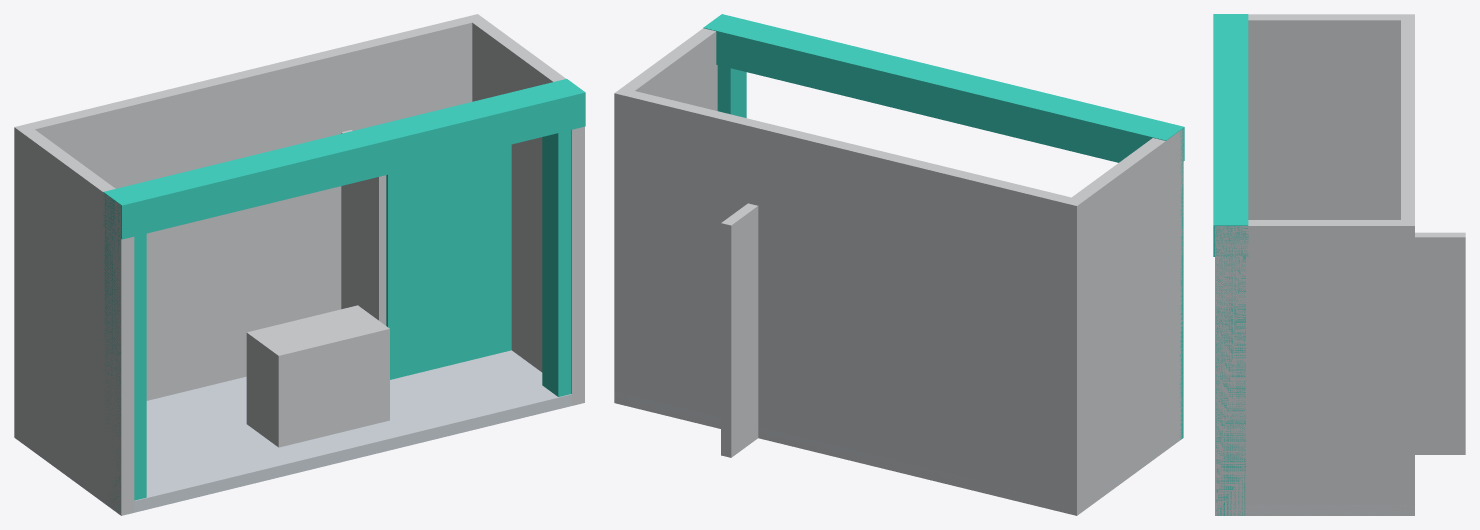
3 renders of one model, left to right at view 1: azimuth 30°, elevation 25°; view 2: azimuth 150°, elevation 25°; view 3: azimuth 270°, elevation 25°, orthographic. The views are drawn at different scales.
Parts seen in each view (by area): view 1: Exhibition Booth Concept; view 2: Exhibition Booth Concept; view 3: Exhibition Booth Concept.
Boxes of the visible parts, x1,y1,x2,y2 form: Exhibition Booth Concept: [14, 14, 585, 515]; Exhibition Booth Concept: [614, 14, 1184, 515]; Exhibition Booth Concept: [1213, 14, 1465, 515].
Size of the model in its own units: 5 by 3.2 by 2.52.
